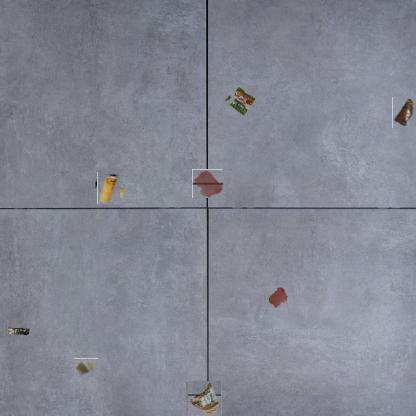dirty: (186, 381, 221, 416), (222, 84, 258, 116), (95, 175, 123, 202), (392, 96, 415, 128), (74, 358, 98, 377), (5, 324, 30, 336)
liquid: (192, 169, 223, 198), (266, 286, 288, 308)
